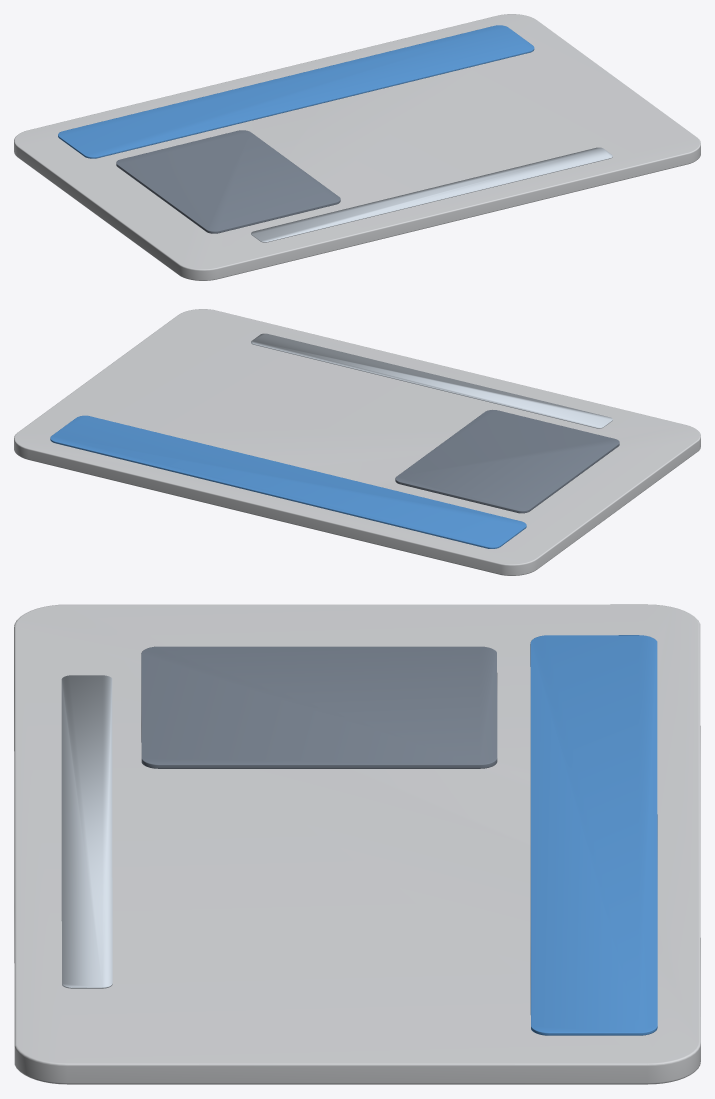
The model's file is student_id_card.fbx.
3 views of the same model, one above another, from view 1: azimuth 30°, elevation 25°; view 2: azimuth 150°, elevation 25°; view 3: azimuth 270°, elevation 25° (orthographic). The views are drawn at different scales.
Parts seen in each view (by area): view 1: StudentID_Card, StudentID_TopBand, StudentID_PhotoFrame, StudentID_SignatureBand; view 2: StudentID_Card, StudentID_TopBand, StudentID_PhotoFrame, StudentID_SignatureBand; view 3: StudentID_Card, StudentID_TopBand, StudentID_PhotoFrame, StudentID_SignatureBand.
Part boxes in pixels (x1,y1,x2,y2): StudentID_Card: (14,14,700,280); StudentID_TopBand: (58,25,534,158); StudentID_PhotoFrame: (116,130,340,233); StudentID_SignatureBand: (251,147,612,242); StudentID_Card: (14,309,700,575); StudentID_TopBand: (50,415,526,548); StudentID_PhotoFrame: (395,410,619,513); StudentID_SignatureBand: (251,333,612,428); StudentID_Card: (14,604,700,1084); StudentID_TopBand: (530,635,657,1035); StudentID_PhotoFrame: (141,646,497,768); StudentID_SignatureBand: (61,675,112,988).
Bounding box in the file's own units: 8.56 × 0.2229 × 5.4.
